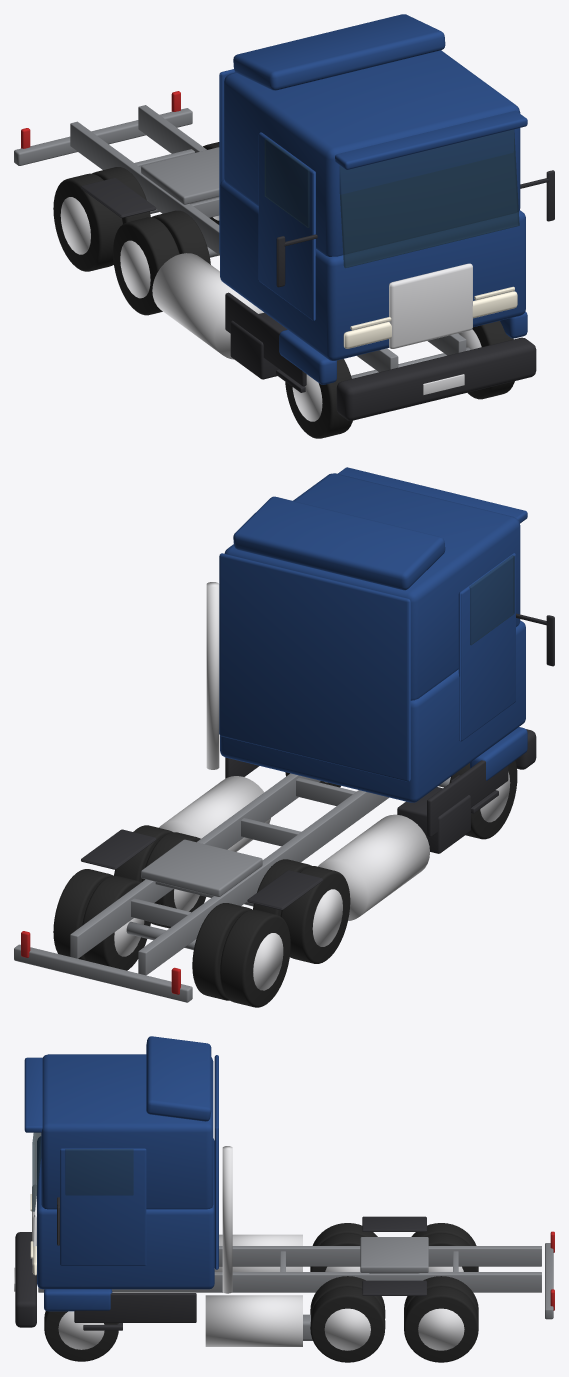
Rendered from fh540_blockout.glb.
3 renders of one model, top to bottom at view 1: azimuth 30°, elevation 25°; view 2: azimuth 150°, elevation 25°; view 3: azimuth 270°, elevation 25°, orthographic. The views are drawn at different scales.
Parts seen in each view (by area): view 1: cab_body_upper, cab_body_lower, windshield, cab_roof_spoiler, cab_door_L, bumper_front, grille, fuel_tank_L, chassis_rail_L, cab_roof_visor, tire_D2_L_out, fifth_wheel_plate (+19 smaller); view 2: cab_rear_panel, cab_body_upper, cab_body_lower, cab_roof_spoiler, cab_door_L, fuel_tank_L, chassis_rail_L, chassis_rail_R, tire_D2_L_out, fifth_wheel_plate, tire_D1_L_out, fuel_tank_R (+21 smaller); view 3: cab_body_upper, cab_door_R, cab_body_lower, cab_roof_spoiler, fuel_tank_R, chassis_rail_R, chassis_rail_L, cab_window_R, tire_D2_R_out, tire_D1_R_out, cab_side_skirt_R, fifth_wheel_plate (+20 smaller).
Boxes of the visible parts, x1,y1,x2,y2 form: cab_body_upper: (224, 50, 520, 256); cab_body_lower: (220, 180, 525, 360); windshield: (339, 129, 519, 268); cab_roof_spoiler: (233, 14, 445, 90); cab_door_L: (258, 132, 315, 320); bumper_front: (336, 337, 536, 420); grille: (389, 263, 472, 348); fuel_tank_L: (152, 253, 263, 359); chassis_rail_L: (70, 121, 398, 372); cab_roof_visor: (335, 110, 527, 169); tire_D2_L_out: (53, 173, 122, 271); fifth_wheel_plate: (141, 147, 219, 204); cab_rear_panel: (219, 553, 410, 781); cab_body_upper: (224, 473, 520, 700); cab_body_lower: (220, 620, 525, 802); cab_roof_spoiler: (233, 496, 445, 590); cab_door_L: (458, 553, 515, 741); fuel_tank_L: (318, 814, 429, 920); chassis_rail_L: (138, 790, 388, 975); chassis_rail_R: (70, 773, 320, 958); tire_D2_L_out: (220, 909, 290, 1007); fifth_wheel_plate: (141, 839, 262, 896); tire_D1_L_out: (280, 866, 350, 963); fuel_tank_R: (159, 776, 270, 851); cab_body_upper: (41, 1054, 213, 1209); cab_door_R: (60, 1148, 146, 1265); cab_body_lower: (37, 1136, 214, 1289); cab_roof_spoiler: (146, 1036, 211, 1121); fuel_tank_R: (205, 1295, 302, 1346); chassis_rail_R: (38, 1272, 541, 1292); chassis_rail_L: (219, 1246, 541, 1266); cab_window_R: (65, 1149, 133, 1195); tire_D2_R_out: (404, 1286, 478, 1362); tire_D1_R_out: (310, 1286, 385, 1362); cab_side_skirt_R: (74, 1293, 196, 1322); fifth_wheel_plate: (360, 1237, 428, 1272).
Size of the model in its own units: 3.5 by 3.96 by 7.52.
